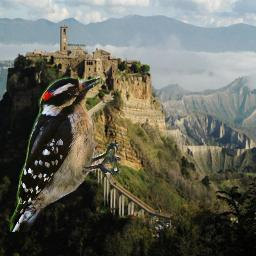Woodpecker: (10, 76, 121, 232)
